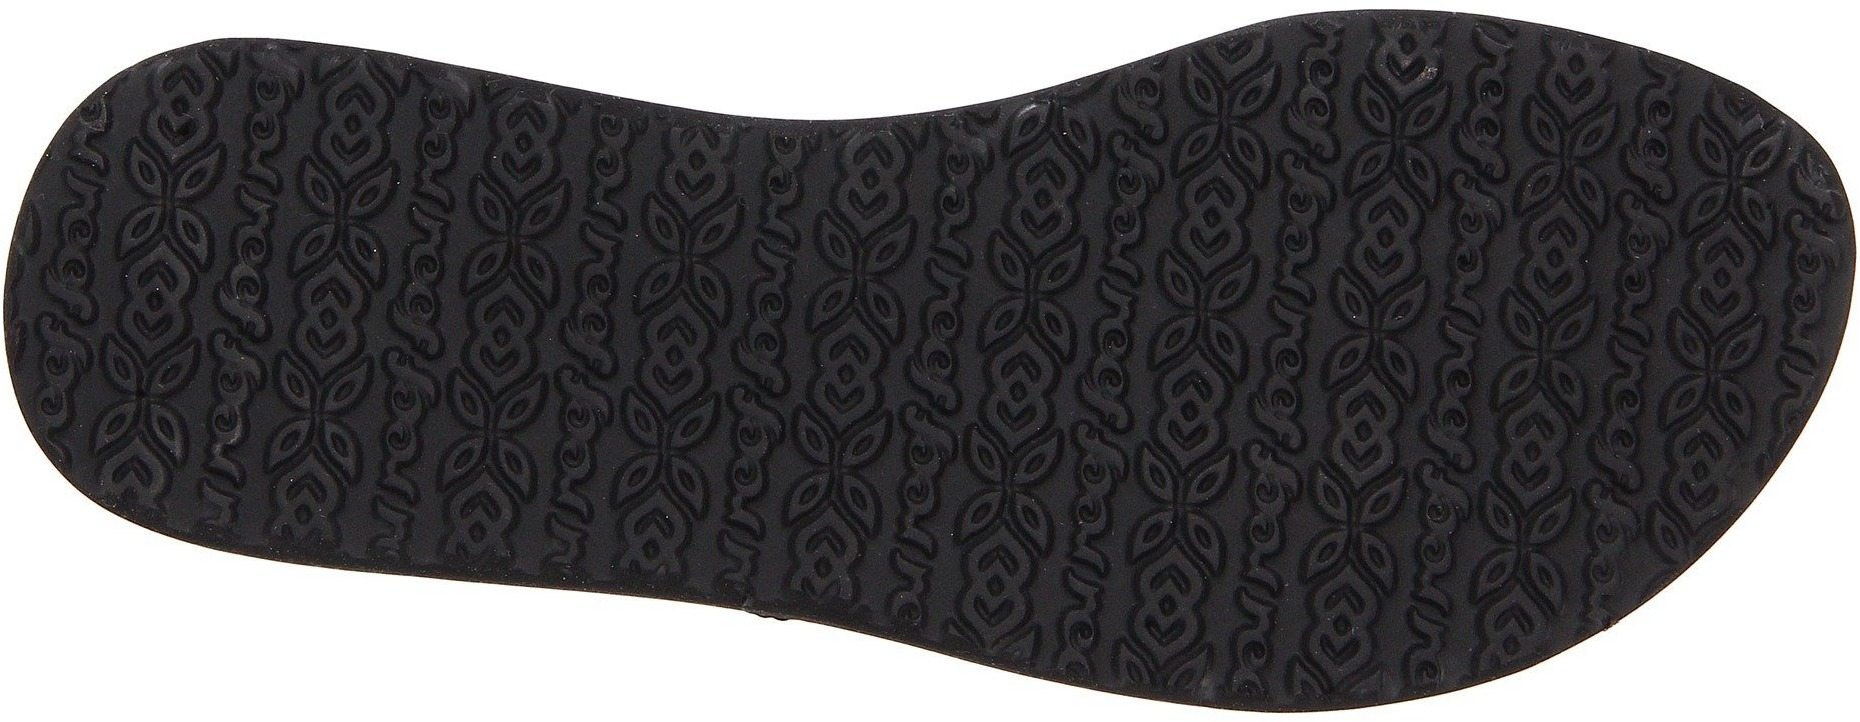other: (1055, 92, 1609, 611), (582, 146, 1028, 562), (115, 109, 531, 506)
